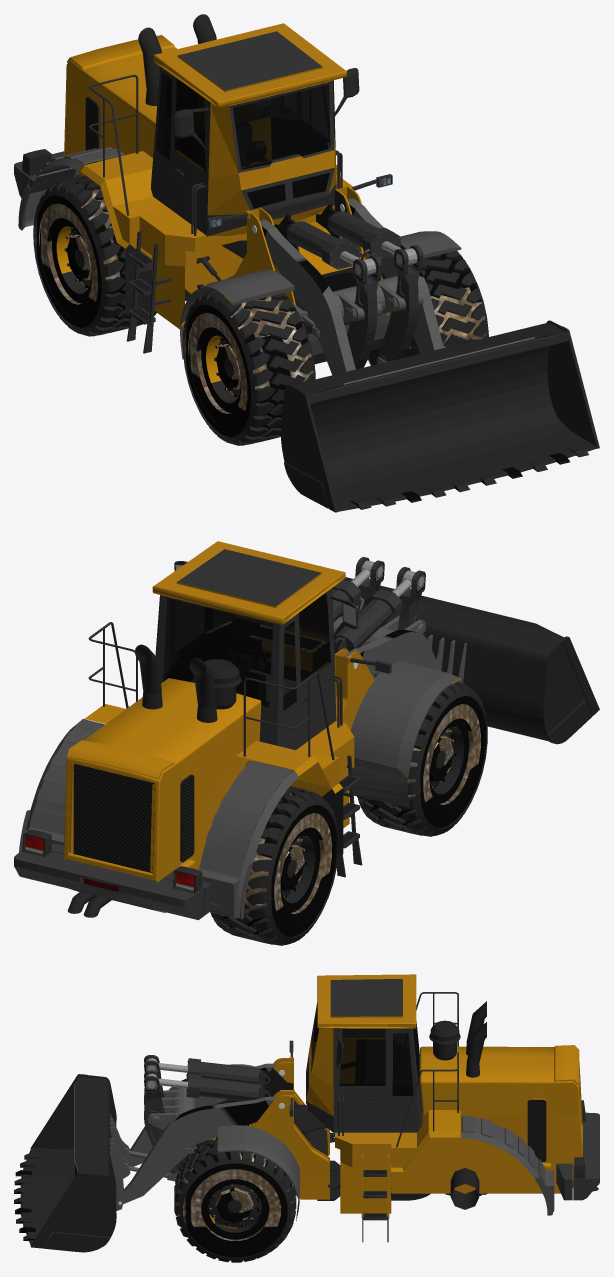
File: gruzovichok11.fbx
3 views of the same model, one above another, from view 1: azimuth 30°, elevation 25°; view 2: azimuth 150°, elevation 25°; view 3: azimuth 270°, elevation 25° (orthographic). The views are drawn at different scales.
Parts seen in each view (by area): view 1: Body, Ковш, FR, BR, Body2, Стрела, FL, Тягучка часть 2. 1, Тягучка часть 2. 2, Lefter, Lefter001; view 2: Body, Ковш, BR, Body2, FR, Стрела, Lefter001, Тягучка часть 2. 2, Lefter, Тягучка часть 2. 1; view 3: Body, Ковш, FL, Body2, Стрела, Lefter, Lefter001, Тягучка часть 2. 1.
Part boxes in pixels (x1,y1,x2,y2): Body: (14, 14, 359, 353); Ковш: (280, 320, 599, 512); FR: (182, 290, 315, 445); BR: (33, 175, 156, 336); Body2: (180, 174, 461, 364); Стрела: (259, 198, 443, 375); FL: (368, 250, 488, 365); Тягучка часть 2. 1: (378, 245, 423, 361); Тягучка часть 2. 2: (347, 255, 382, 369); Lefter: (327, 211, 400, 259); Lefter001: (286, 221, 359, 269); Body: (14, 541, 362, 920); Ковш: (340, 577, 599, 744); BR: (210, 786, 338, 945); Body2: (334, 640, 460, 807); FR: (357, 682, 487, 836); Стрела: (333, 605, 440, 674); Lefter001: (334, 589, 402, 651); Тягучка часть 2. 2: (396, 567, 425, 629); Lefter: (332, 580, 364, 622); Тягучка часть 2. 1: (355, 557, 384, 612); Body: (306, 974, 599, 1242); Ковш: (14, 1074, 130, 1252); FL: (174, 1137, 296, 1262); Body2: (217, 1040, 340, 1221); Стрела: (123, 1063, 277, 1204); Lefter: (186, 1073, 270, 1100); Lefter001: (186, 1058, 270, 1085); Тягучка часть 2. 1: (144, 1070, 186, 1173).
Bounding box in the file's own units: 30.07 × 31.61 × 74.86.
